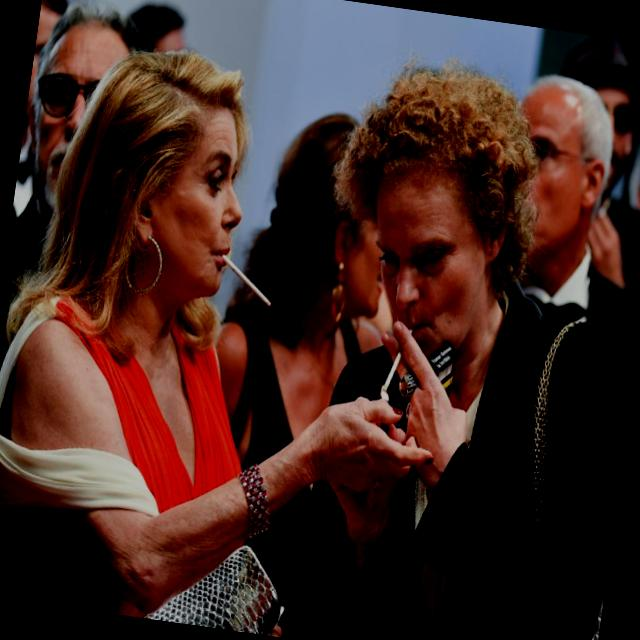smoke: (220, 252, 279, 312), (378, 349, 404, 397)
